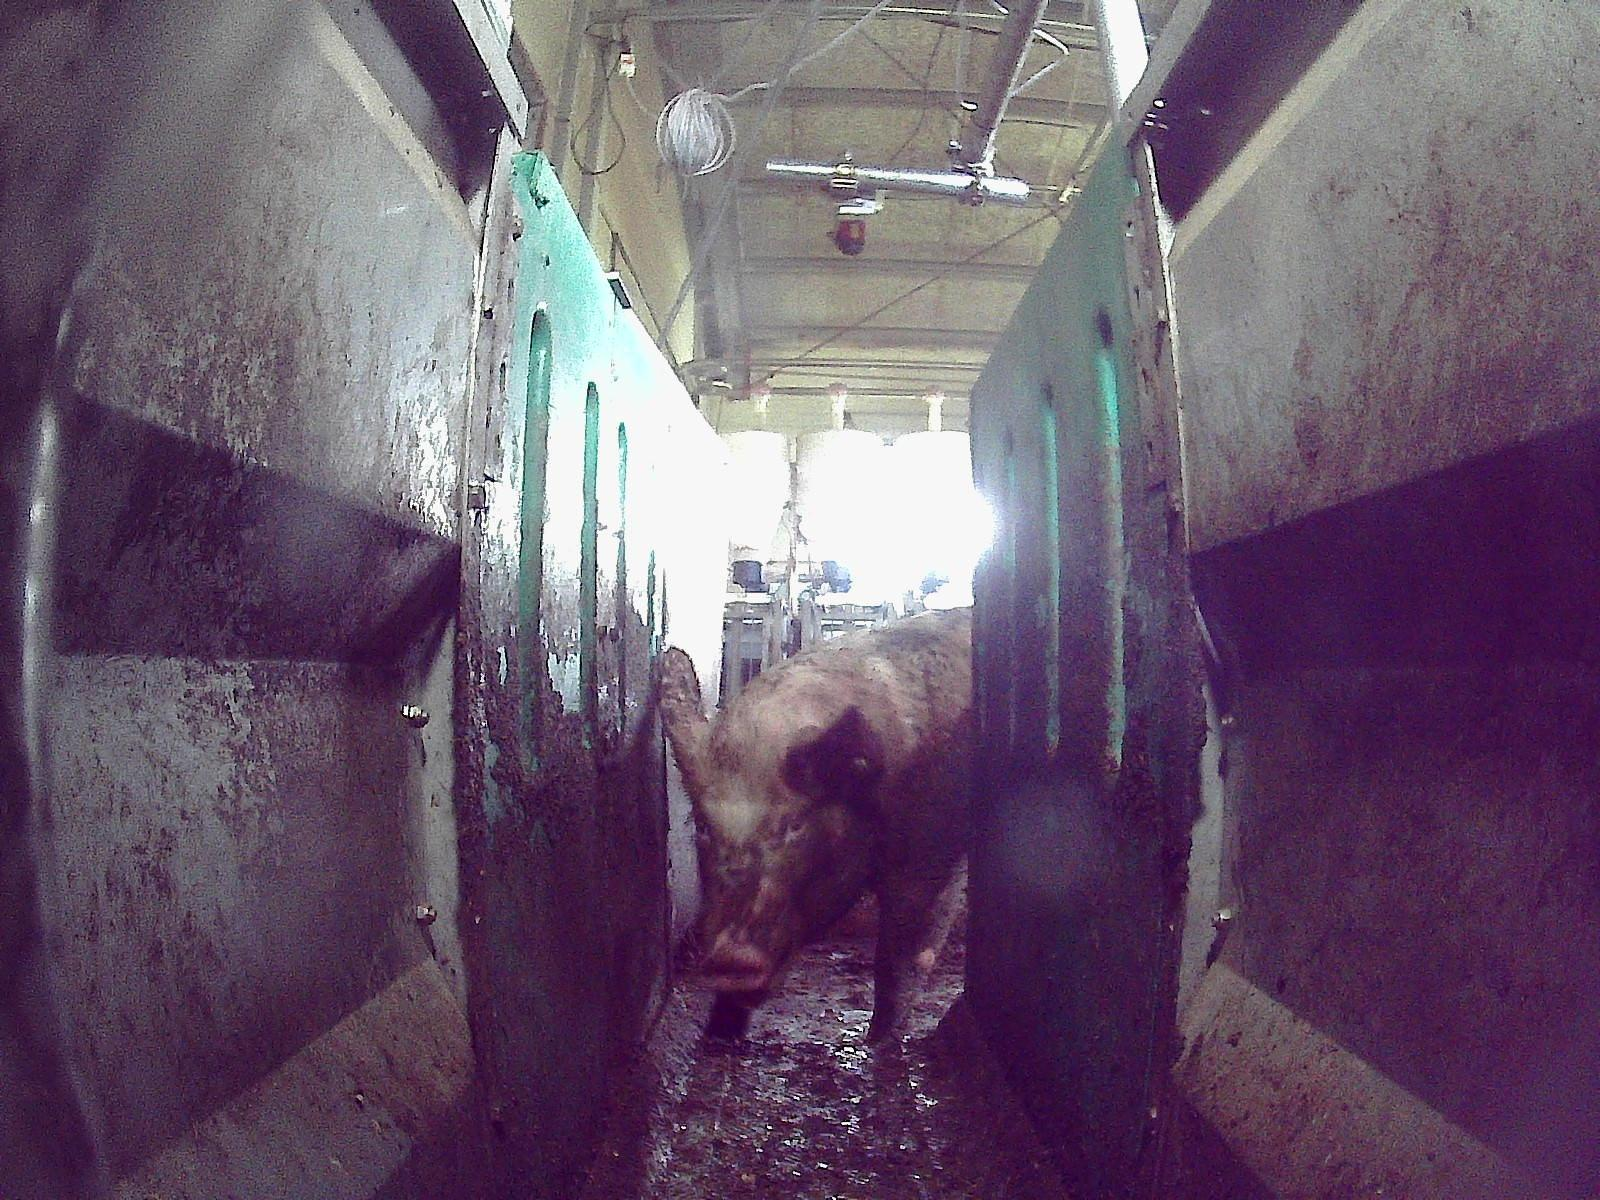Face: (683, 746, 849, 988)
